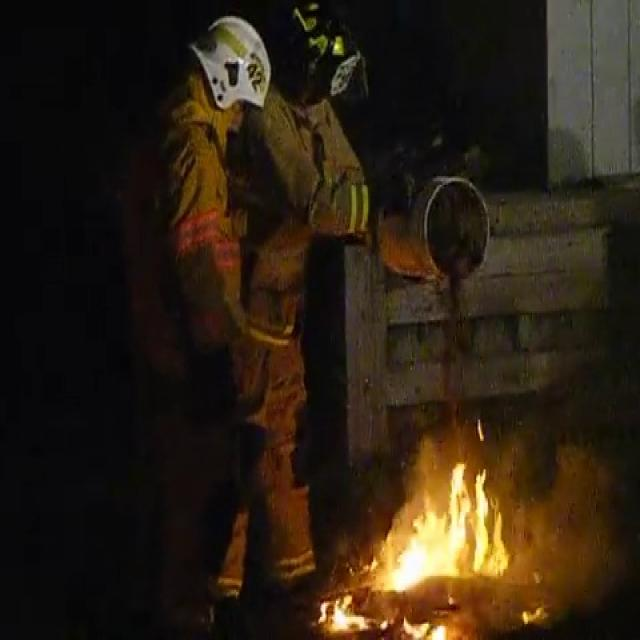Fire: (319, 433, 517, 639), (399, 435, 504, 601)
